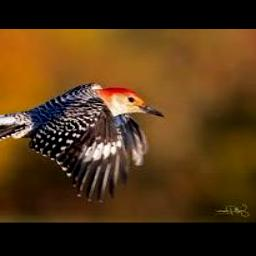Woodpecker: (0, 83, 165, 202)
